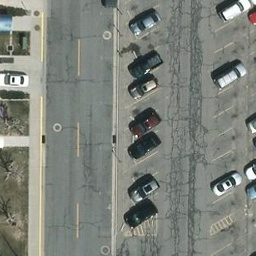car: (215, 58, 249, 92), (128, 134, 162, 162), (129, 50, 162, 76), (125, 204, 158, 229), (218, 1, 252, 25), (129, 112, 163, 136), (130, 12, 161, 38), (129, 77, 160, 100), (209, 171, 241, 193), (131, 177, 159, 199), (1, 70, 30, 87)
